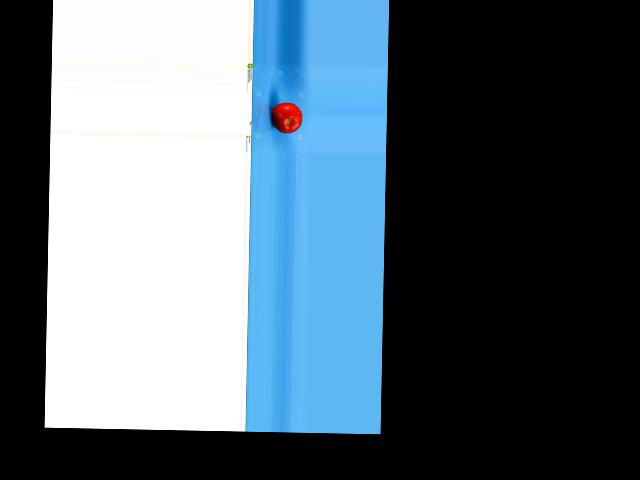tomato: (272, 102, 302, 134)
